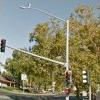Tree: (33, 5, 100, 87)
